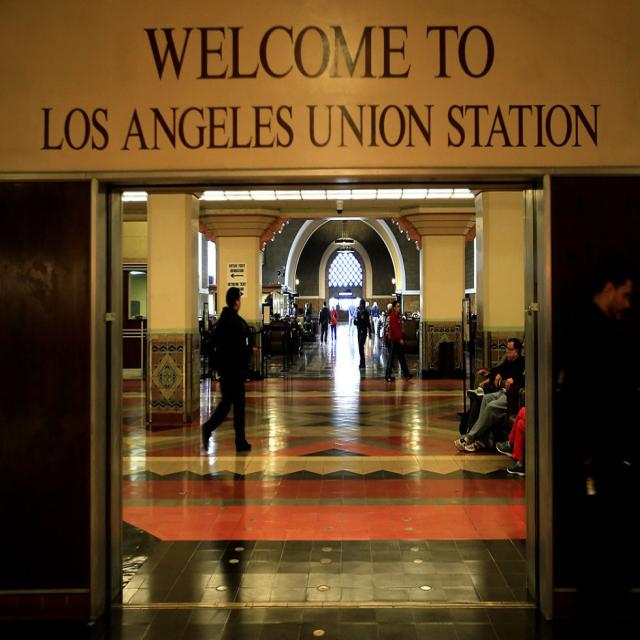body: (558, 262, 631, 609), (200, 286, 255, 454), (453, 336, 526, 454), (464, 337, 526, 444), (382, 298, 414, 384), (289, 298, 342, 347), (494, 406, 527, 482), (377, 301, 420, 336), (353, 298, 373, 369), (317, 300, 331, 347), (456, 399, 472, 437), (327, 305, 339, 342), (372, 299, 381, 337), (365, 299, 373, 337), (348, 300, 356, 338)
